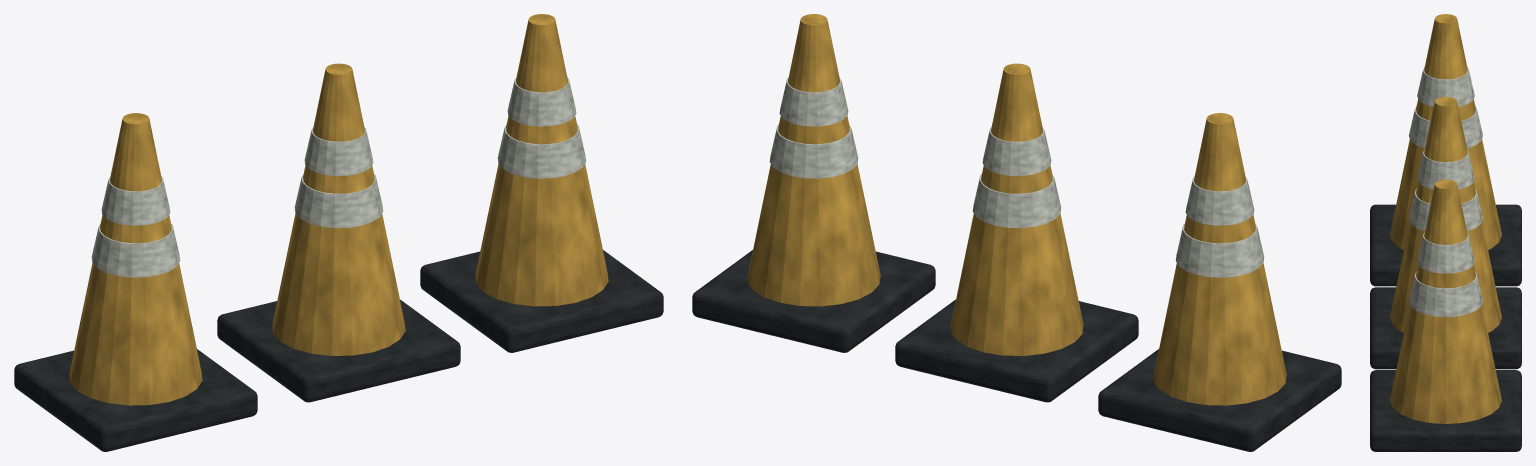
The model's file is GR_ConeSet_03.glb.
3 renders of one model, left to right at view 1: azimuth 30°, elevation 25°; view 2: azimuth 150°, elevation 25°; view 3: azimuth 270°, elevation 25°, orthographic. The views are drawn at different scales.
Parts seen in each view (by area): view 1: Static; view 2: Static; view 3: Static.
Boxes of the visible parts, x1,y1,x2,y2 form: Static: (14,14,663,451); Static: (692,14,1341,451); Static: (1370,14,1521,451).
Size of the model in its own units: 1.11 by 0.535 by 0.31.
Materials: 1 (1 with a texture image).
